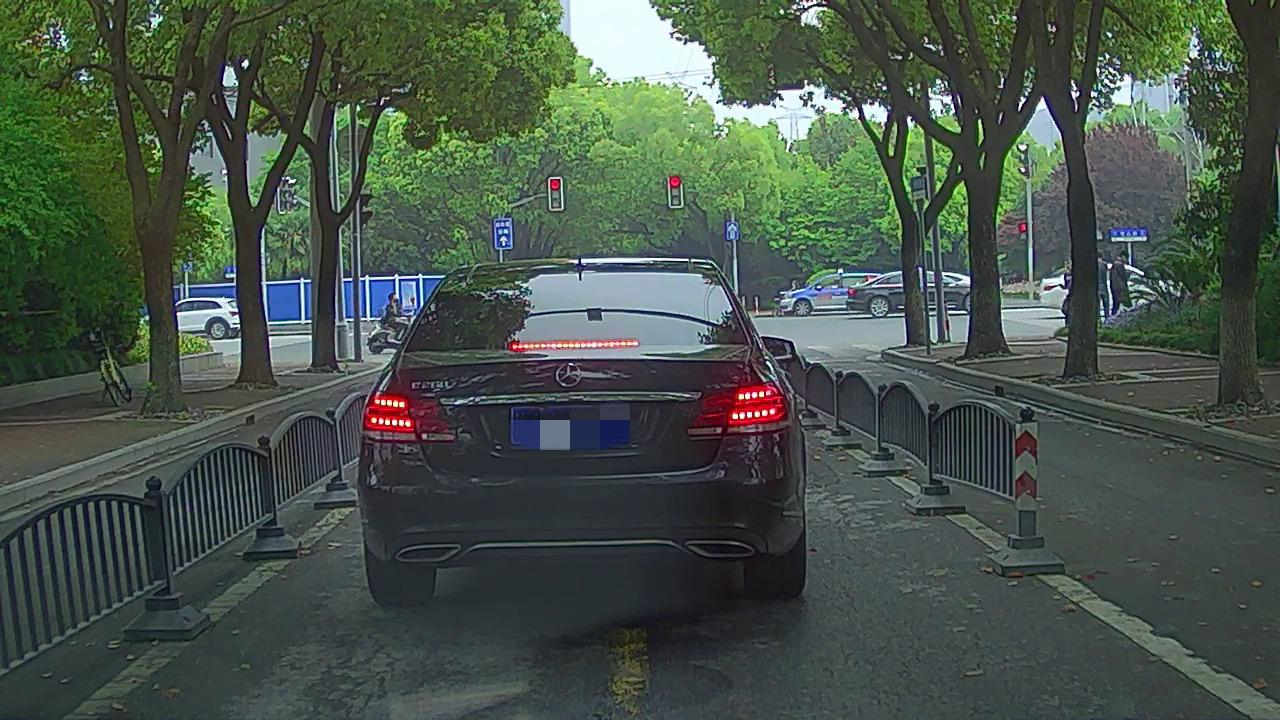traffic_light: (669, 177, 682, 205), (550, 180, 562, 210)
